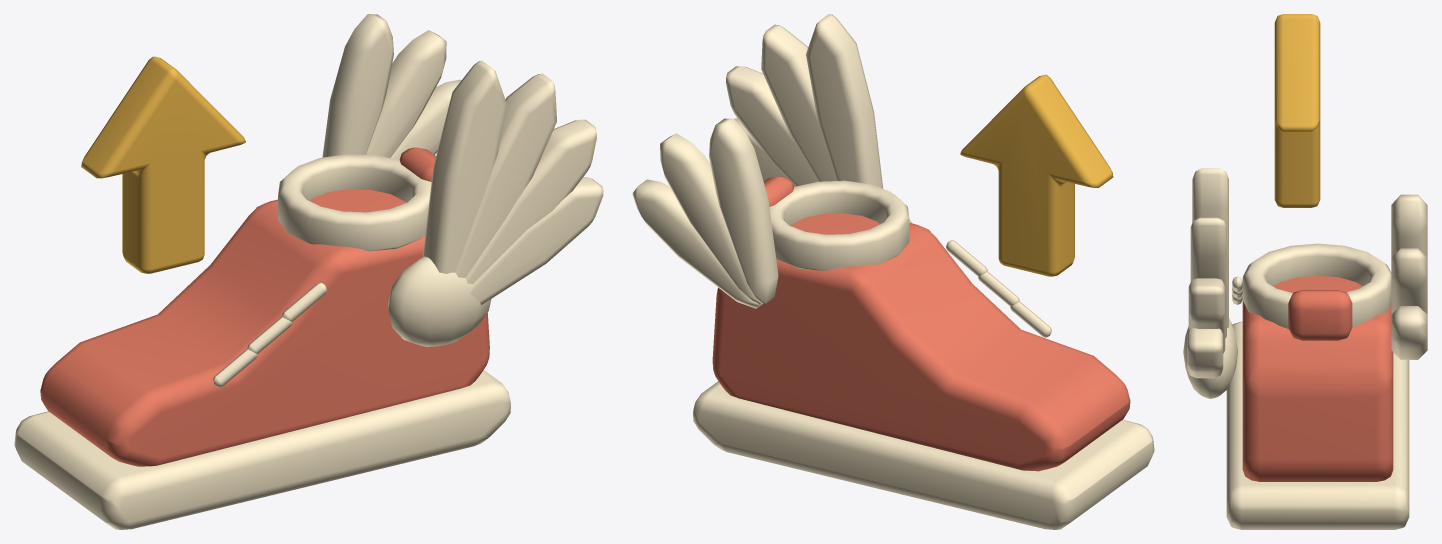
The model's file is boost-Cc9dT5jN.glb.
3 renders of one model, left to right at view 1: azimuth 30°, elevation 25°; view 2: azimuth 150°, elevation 25°; view 3: azimuth 270°, elevation 25°, orthographic. The views are drawn at different scales.
Visible parts, largest first — view 1: shoe_surfaces, wings_surfaces, arrow_surfaces; view 2: shoe_surfaces, wings_surfaces, arrow_surfaces; view 3: shoe_surfaces, wings_surfaces, arrow_surfaces.
Boxes of the visible parts, bbox=[...] form: shoe_surfaces: bbox=[14, 147, 510, 529]; wings_surfaces: bbox=[322, 14, 603, 346]; arrow_surfaces: bbox=[81, 56, 245, 273]; shoe_surfaces: bbox=[693, 176, 1154, 529]; wings_surfaces: bbox=[632, 14, 912, 308]; arrow_surfaces: bbox=[960, 74, 1113, 276]; shoe_surfaces: bbox=[1226, 243, 1409, 529]; wings_surfaces: bbox=[1183, 168, 1427, 398]; arrow_surfaces: bbox=[1274, 14, 1320, 207].
Bounding box in the file's own units: 2.21 × 1.89 × 1.07.
